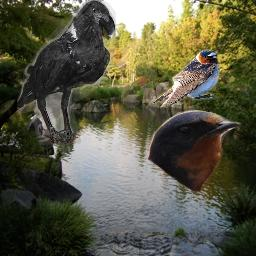Crow: (17, 0, 116, 145)
Swallow: (146, 109, 243, 193), (152, 49, 220, 109)
